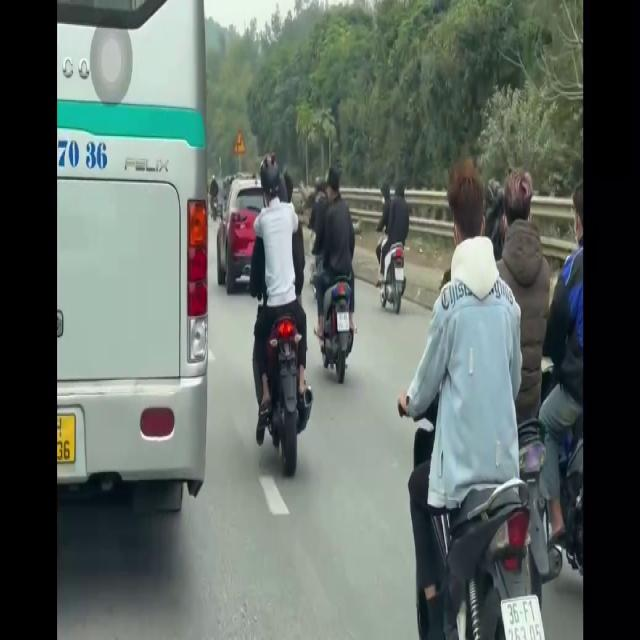helmet: (259, 151, 285, 216)
no_helmet: (446, 156, 484, 282), (502, 167, 544, 263)
